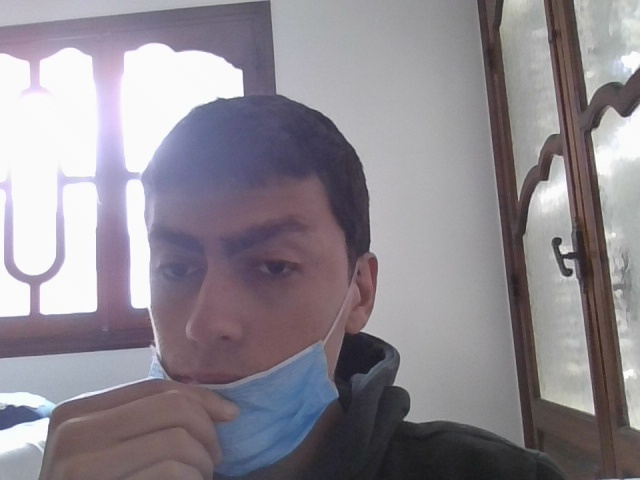mask_weared_incorrect: (131, 101, 391, 473)
